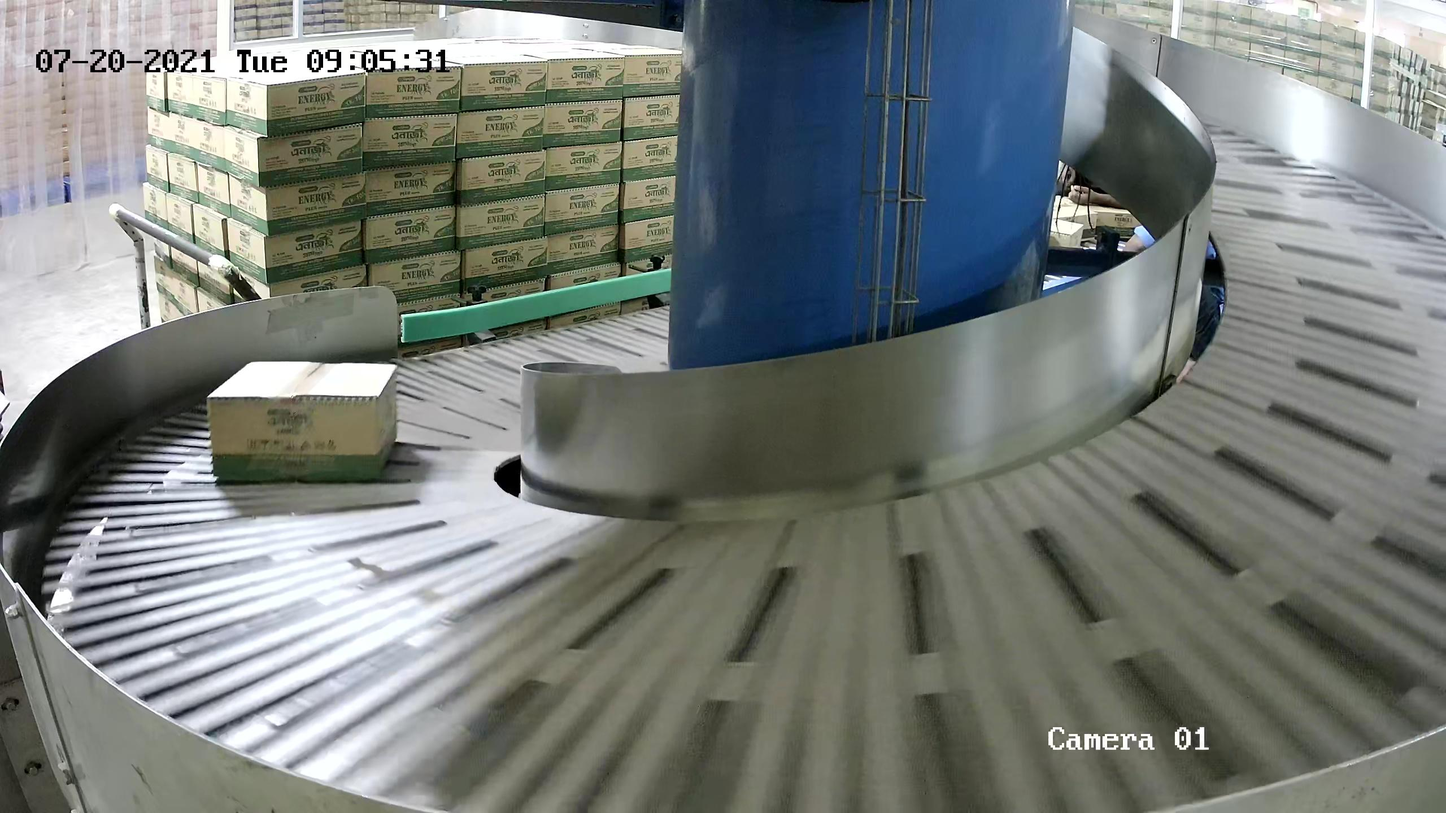Box: (204, 357, 398, 485)
